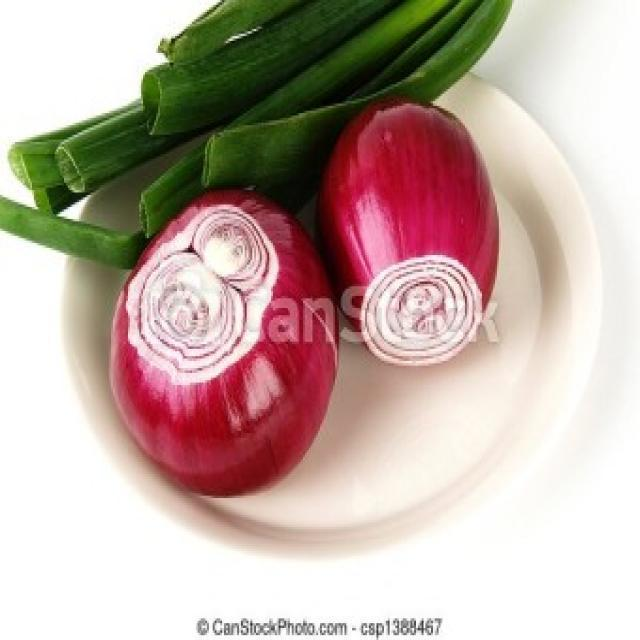onion: (97, 178, 340, 510), (338, 92, 514, 376)
